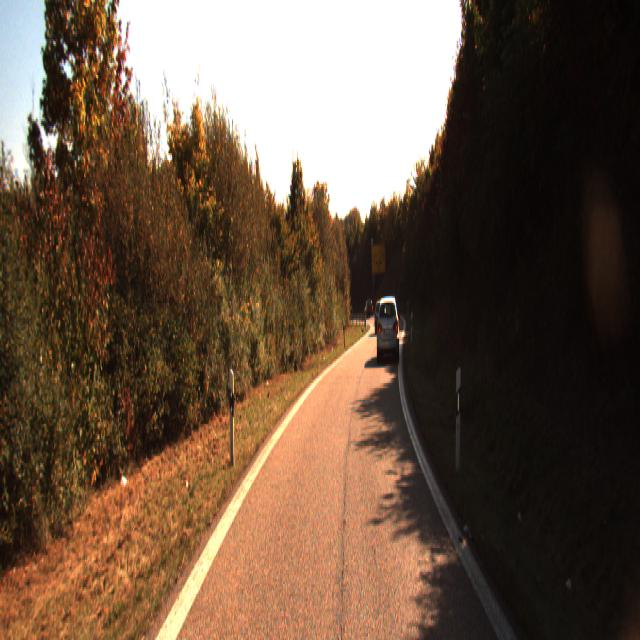Car: (376, 291, 399, 359), (374, 300, 386, 334), (377, 296, 388, 320)
